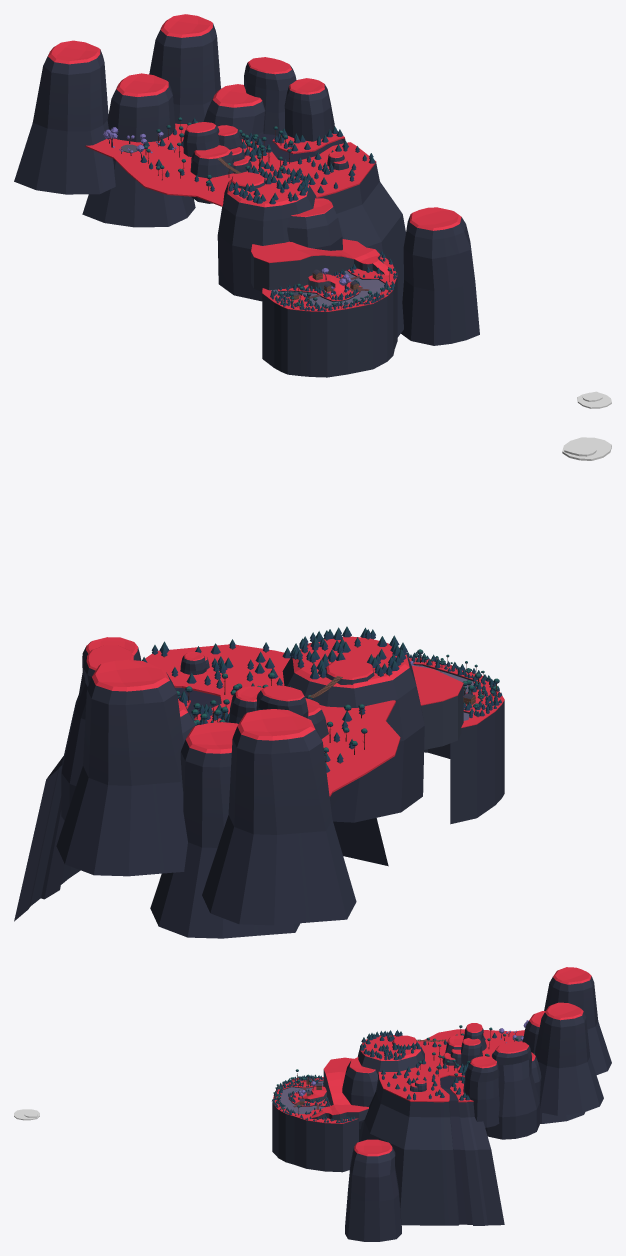
Rendered from EXT_ForestandVillage.fbx.
The picture shows the model from 3 angles, top to bottom: view 1: azimuth 30°, elevation 25°; view 2: azimuth 150°, elevation 25°; view 3: azimuth 270°, elevation 25°; orthographic projection. The views are drawn at different scales.
Visible parts, largest first — view 1: Cube.4310, Cube.4324, Cube.4268, Cube.4239, Cube.4253, Cube.4265, Cube.4252, Cube.4271, Cube.4249, Cube.4251, Cube.4250, Cube.4273 (+2 smaller); view 2: Cube.4324, Cube.4252, Cube.4310, Cube.4265, Cube.4253, Cube.4268, Cube.4271, Cube.4251, Cube.4248, Cube.4241, Cube.4246, Cube.4249; view 3: Cube.4310, Cube.4252, Cube.4268, Cube.4239, Cube.4251, Cube.4324, Cube.4249, Cube.4271, Cube.4265, Cube.4273, Cube.4253, Cube.4246.
Part boxes in pixels (x1,y1,x2,y2): Cube.4310: (85, 123, 405, 337); Cube.4324: (14, 40, 115, 194); Cube.4268: (262, 255, 397, 377); Cube.4239: (401, 207, 479, 345); Cube.4253: (82, 73, 195, 227); Cube.4265: (217, 171, 316, 301); Cube.4252: (149, 14, 221, 123); Cube.4271: (251, 239, 390, 291); Cube.4249: (284, 78, 334, 141); Cube.4251: (244, 57, 296, 135); Cube.4250: (203, 84, 265, 139); Cube.4273: (287, 198, 342, 250); Cube.4324: (202, 709, 356, 925); Cube.4252: (56, 659, 187, 876); Cube.4310: (14, 644, 400, 921); Cube.4265: (282, 636, 424, 822); Cube.4253: (150, 722, 300, 938); Cube.4268: (408, 657, 504, 824); Cube.4271: (412, 665, 463, 749); Cube.4251: (61, 645, 135, 820); Cube.4248: (256, 685, 308, 718); Cube.4241: (325, 659, 374, 684); Cube.4246: (228, 686, 263, 723); Cube.4249: (79, 637, 141, 692); Cube.4310: (359, 1029, 524, 1225); Cube.4252: (534, 1002, 603, 1115); Cube.4268: (272, 1077, 358, 1172); Cube.4239: (345, 1139, 401, 1241); Cube.4251: (485, 1041, 539, 1139); Cube.4324: (544, 967, 611, 1075); Cube.4249: (463, 1056, 499, 1127); Cube.4271: (311, 1057, 368, 1121); Cube.4265: (357, 1035, 424, 1129); Cube.4273: (342, 1057, 377, 1122); Cube.4253: (522, 1011, 585, 1123); Cube.4246: (461, 1038, 482, 1065).
Size of the model in its own units: 77279 by 55696 by 171272.
